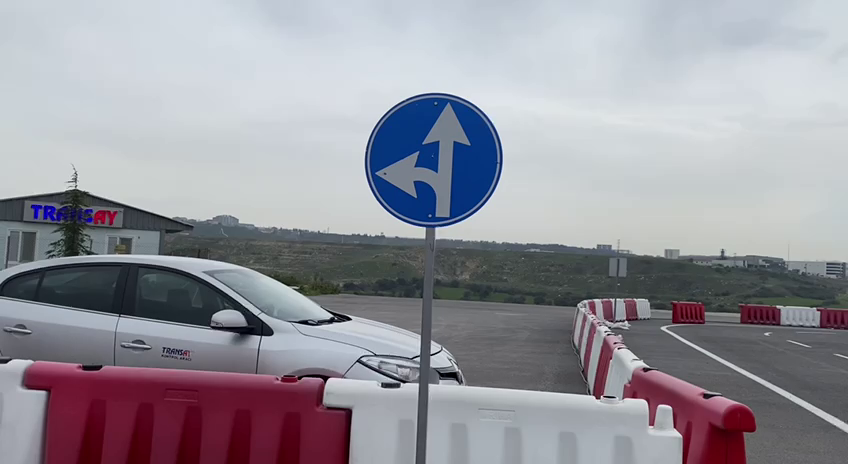forwardAndLeft: (358, 87, 510, 232)
